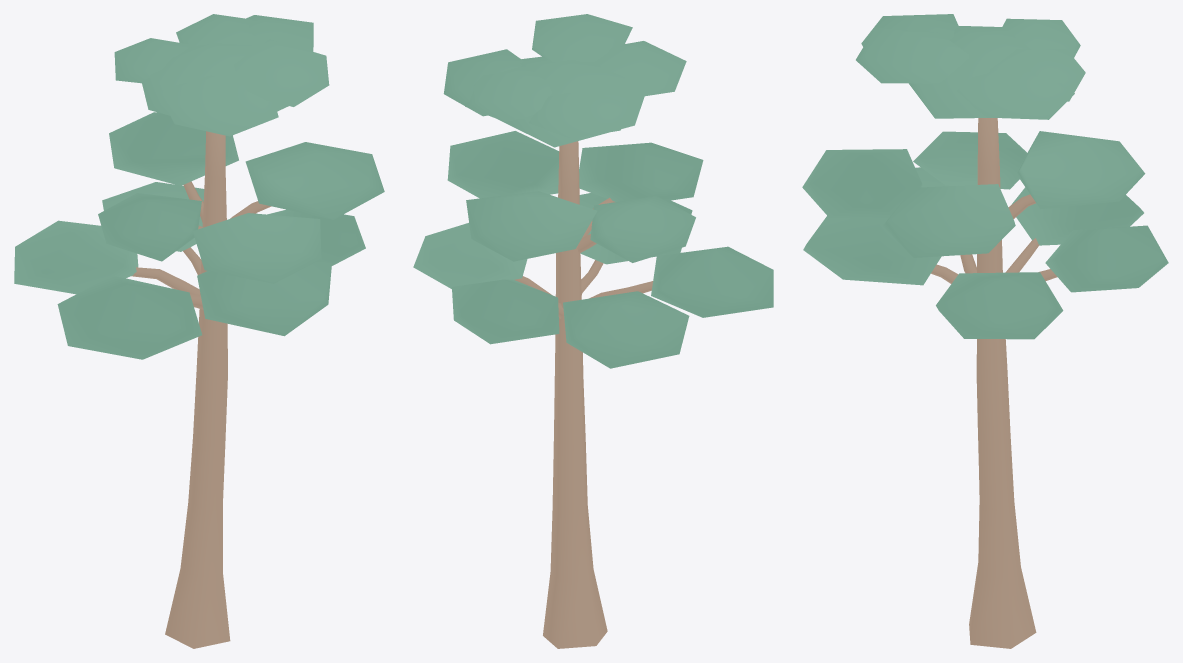
File: Blender_Pine_2_Far.glb
3 renders of one model, left to right at view 1: azimuth 30°, elevation 25°; view 2: azimuth 150°, elevation 25°; view 3: azimuth 270°, elevation 25°, orthographic. The views are drawn at different scales.
Visible parts, largest first — view 1: Blender_Pine_2_Far; view 2: Blender_Pine_2_Far; view 3: Blender_Pine_2_Far.
Boxes of the visible parts, bbox=[...] form: Blender_Pine_2_Far: bbox=[14, 14, 384, 648]; Blender_Pine_2_Far: bbox=[413, 14, 773, 648]; Blender_Pine_2_Far: bbox=[802, 14, 1168, 648].
Size of the model in its own units: 10.29 by 18.41 by 9.81.
